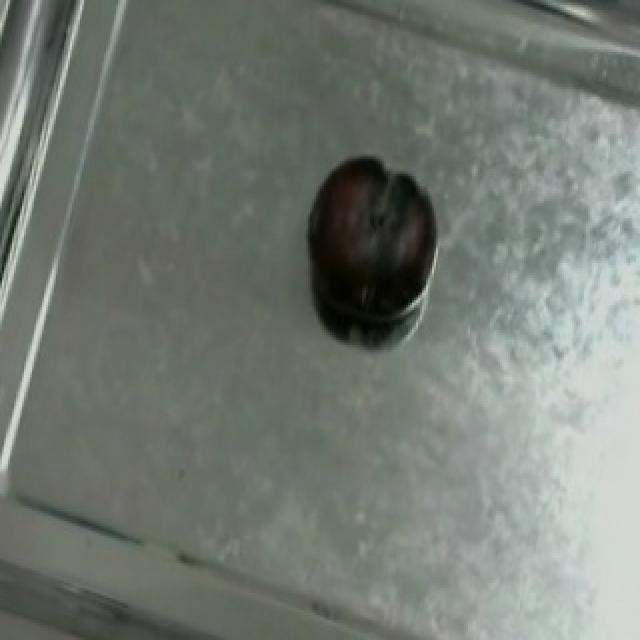Fruit: (290, 141, 444, 335)
